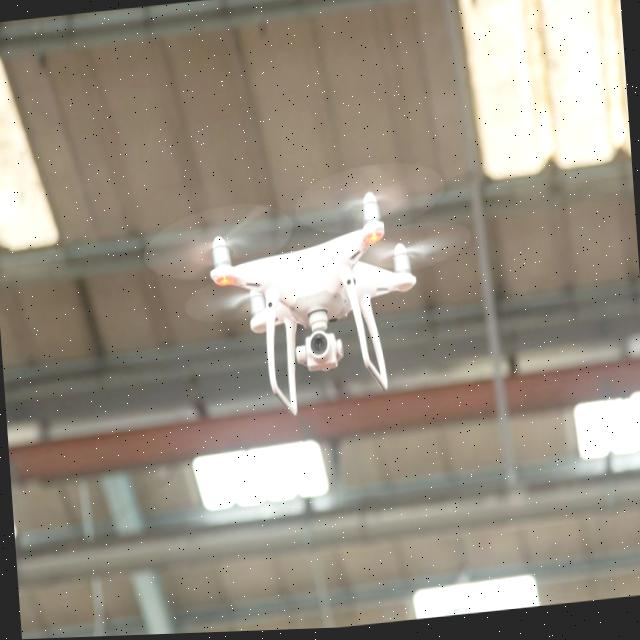drone: (173, 178, 442, 423)
